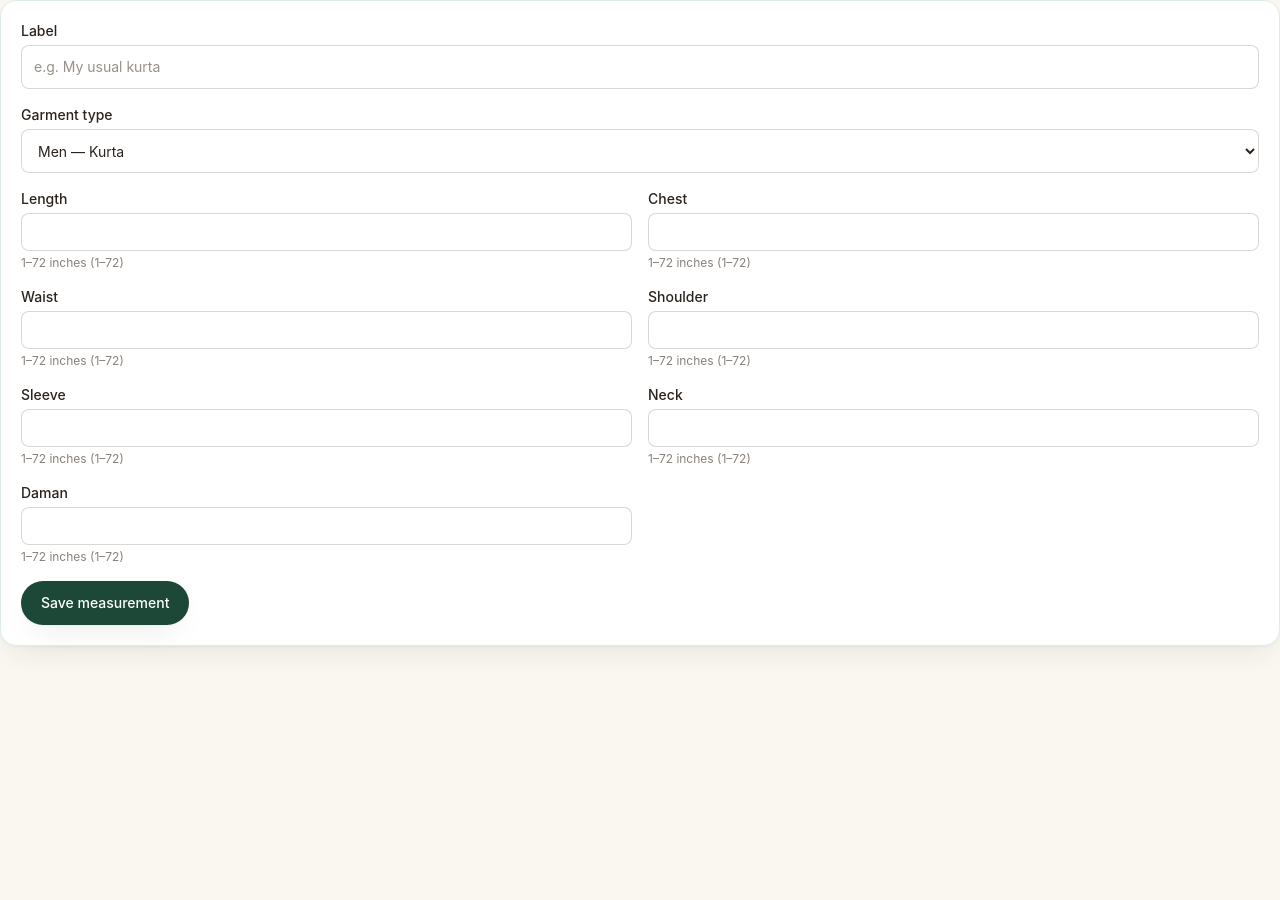
MeasurementForm › clears values when the garment type changes
In the number field labelled "Length": (326,232) [21,213,632,251], type "40"
In the number field labelled "Chest": (954,232) [648,213,1259,251], type "36"
In the number field labelled "Waist": (326,330) [21,311,632,349], type "30"
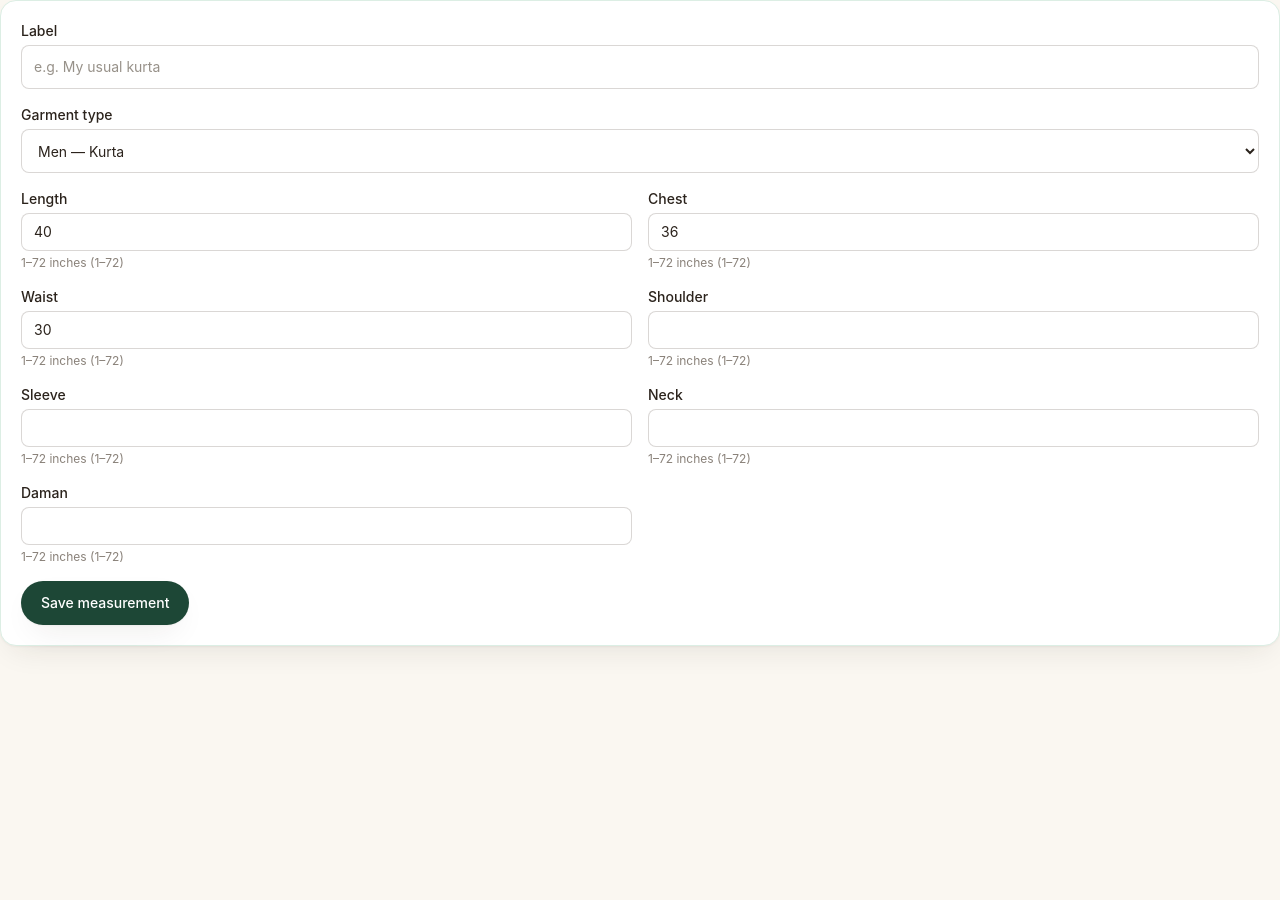
In the number field labelled "Shoulder": (954,330) [648,311,1259,349], type "18"
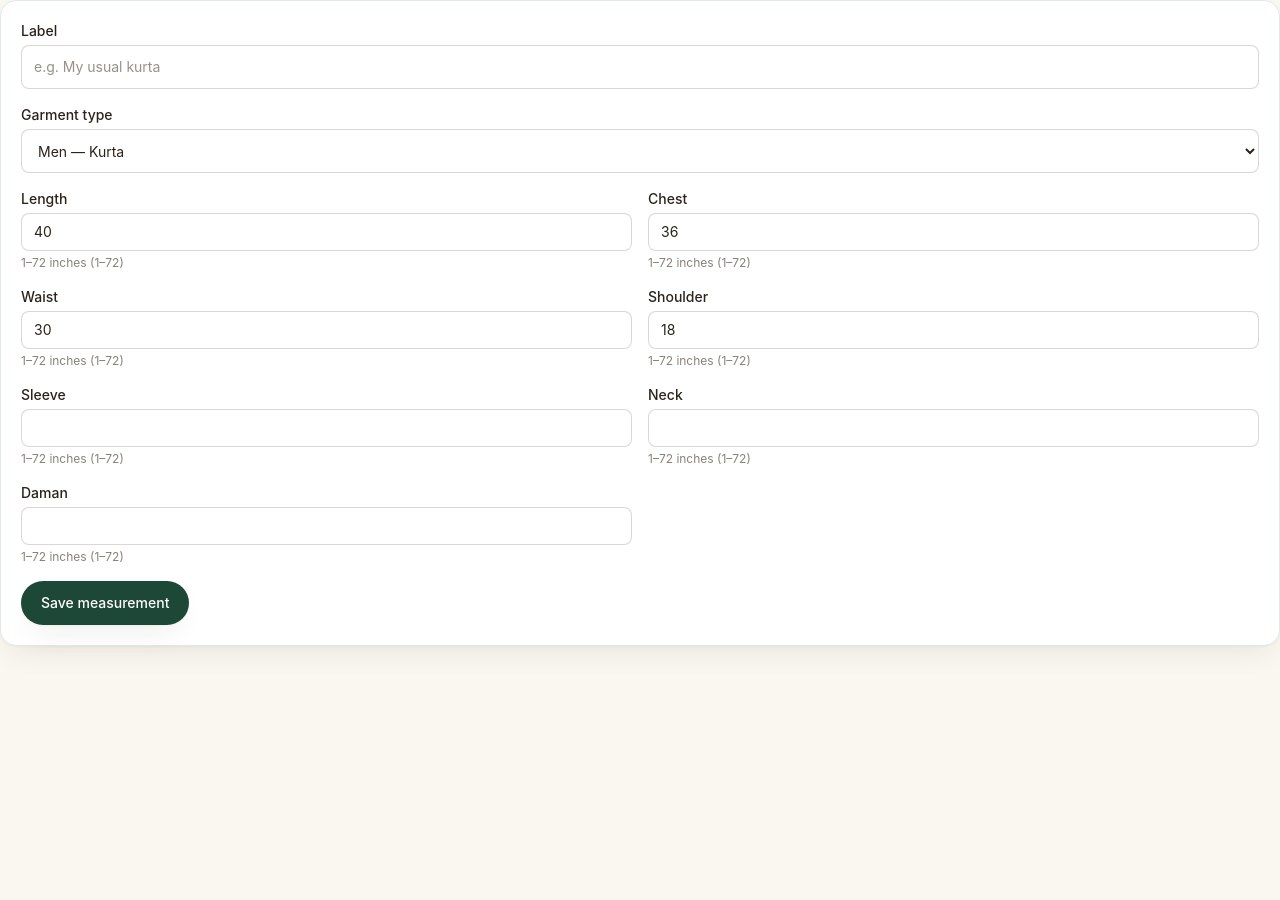
In the number field labelled "Sleeve": (326,428) [21,409,632,447], type "24"
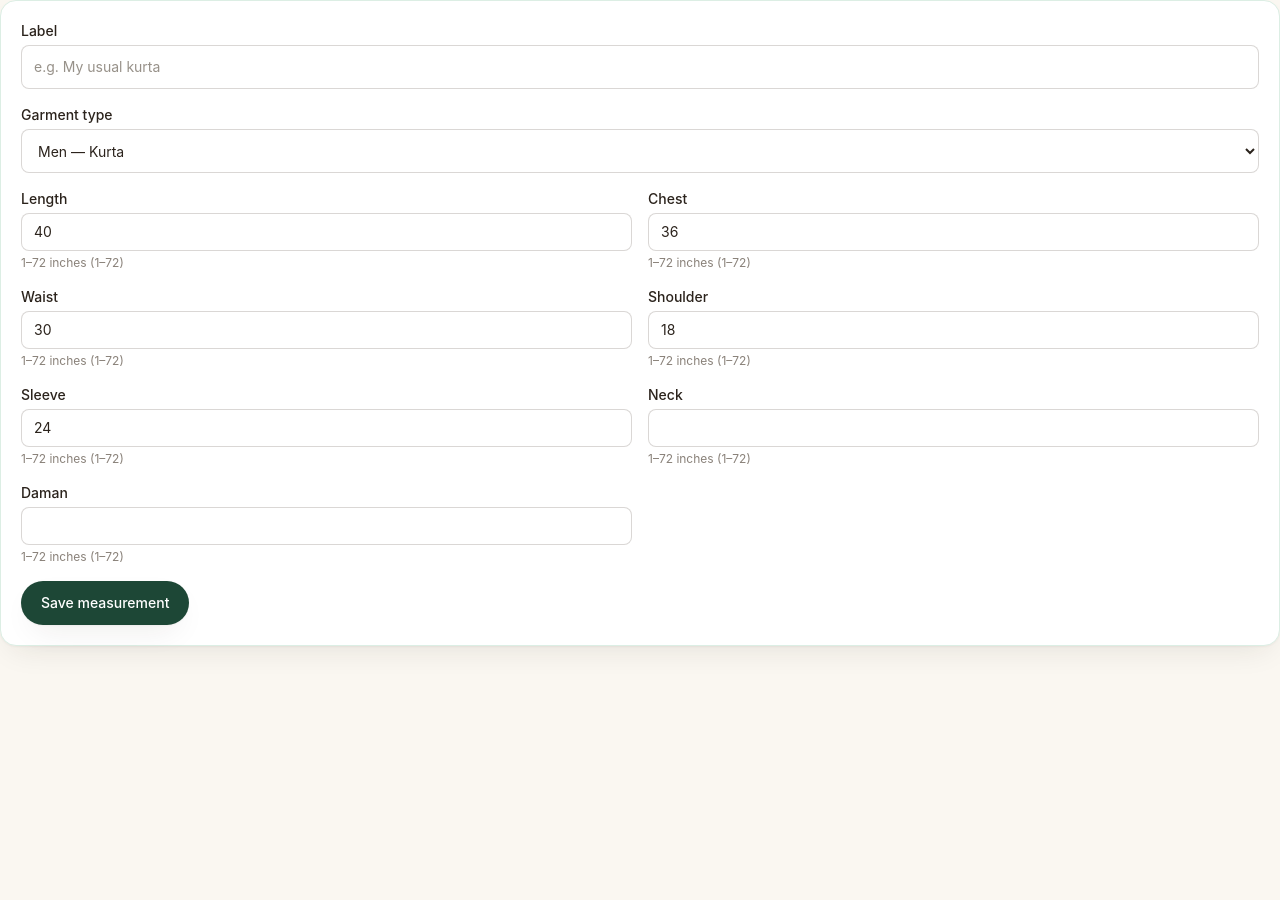
In the number field labelled "Neck": (954,428) [648,409,1259,447], type "15"
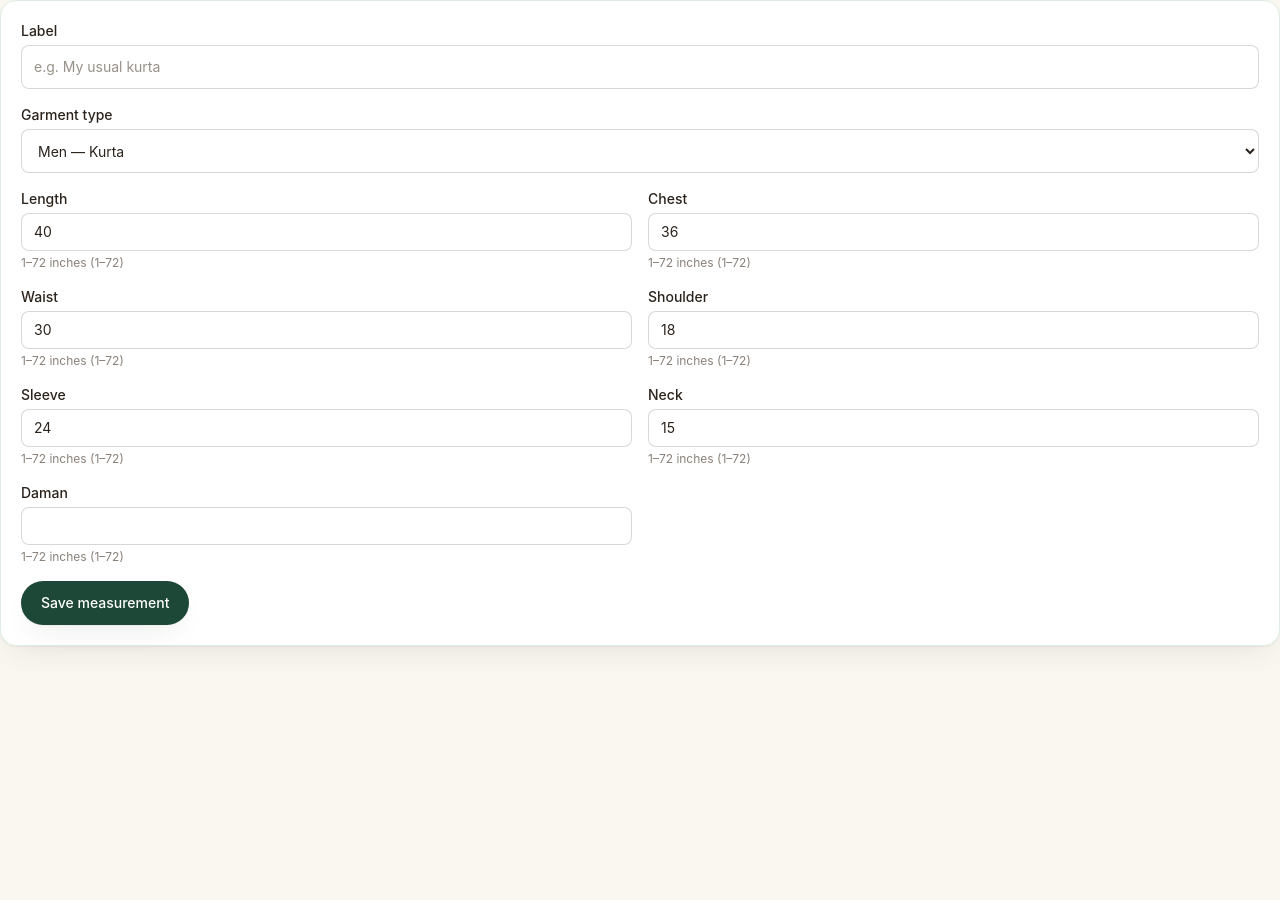
In the number field labelled "Daman": (326,526) [21,507,632,545], type "44"
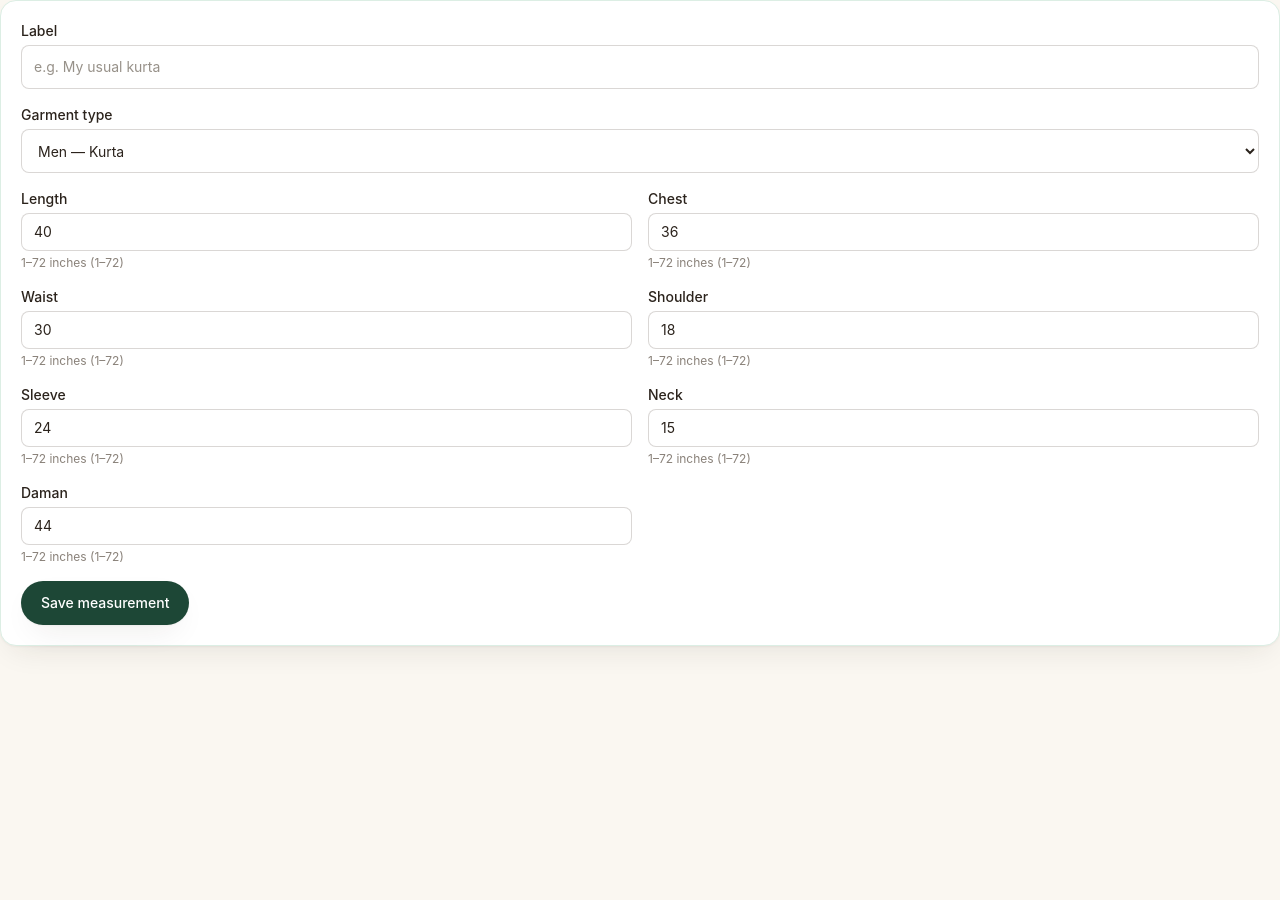
Select "Men — Trouser" in the dropdown labelled "Garment type": (640,151) [21,129,1259,173]
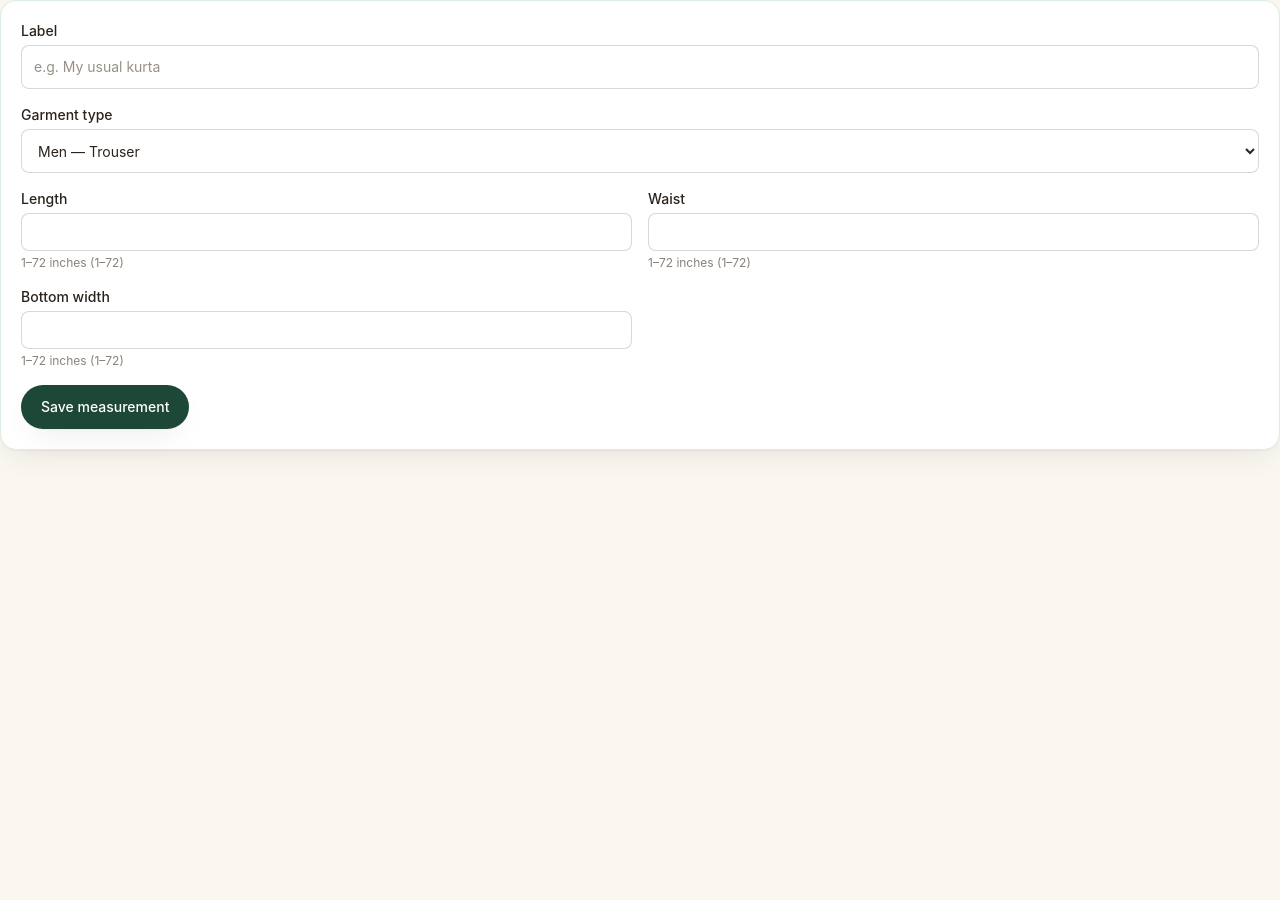
Expected: the label labelled "Chest" is gone
Expected: the number field labelled "Bottom width" is shown, [21,311,632,349]
